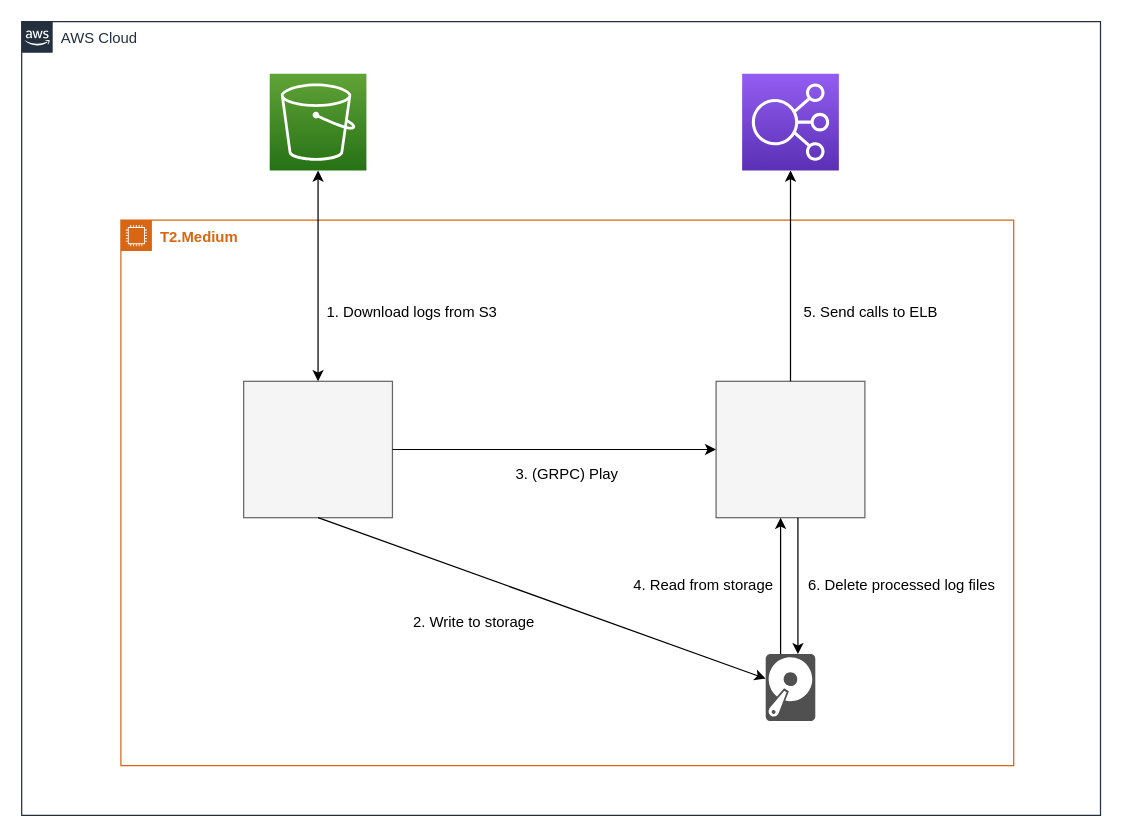
Some shapes in this 1122 by 837 pixel diagram are drawn without their labels. Here are the shapes that lost their labels. From the top down, the centre of each, then its label:
At point (317, 449): "P0. Downloader (1 vCPU)".
At point (790, 449): "P1. Player (1 vCPU)".
